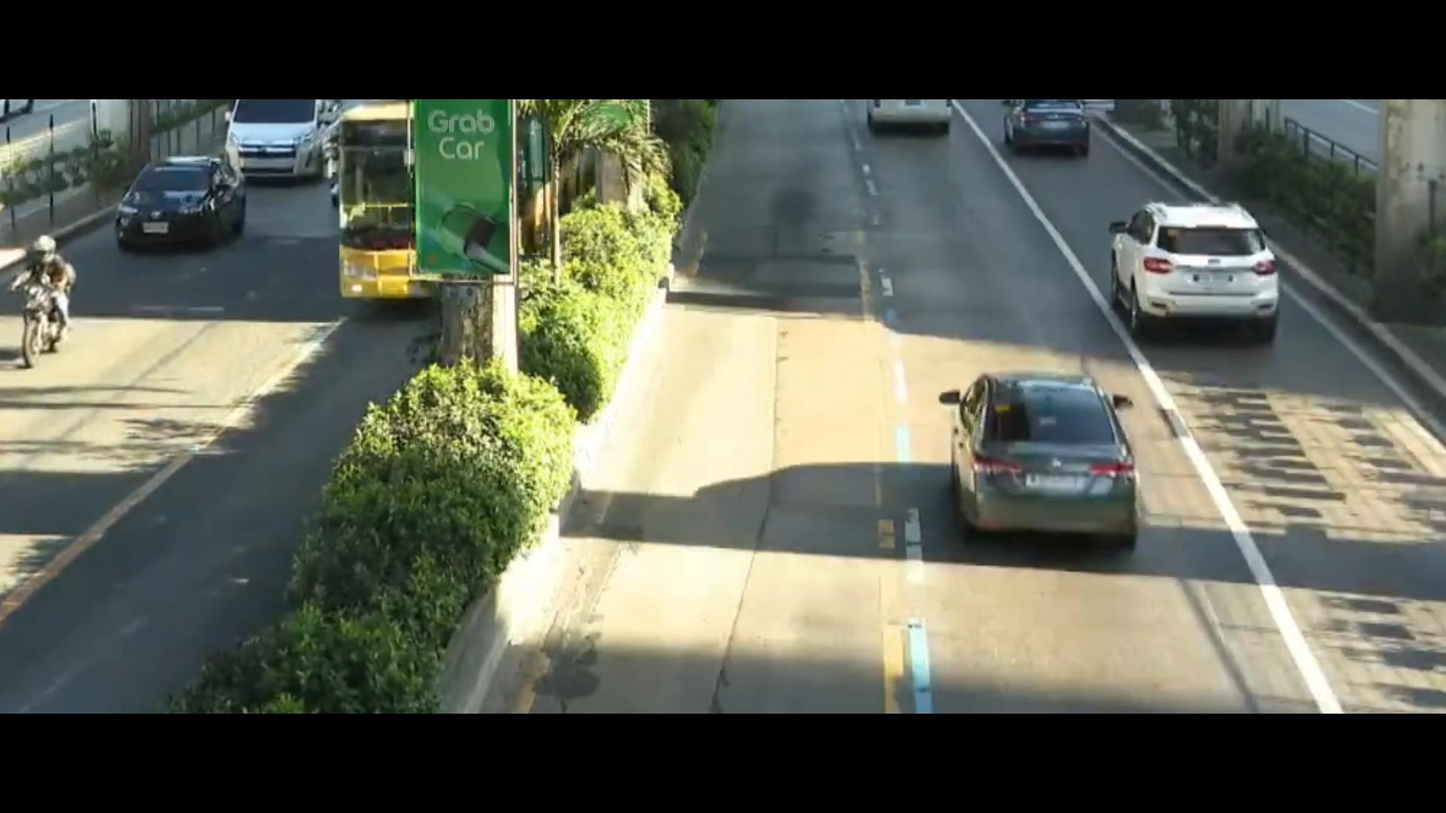Bus: (322, 110, 423, 307)
Motorcycle: (0, 228, 93, 384)
SUV: (1108, 179, 1307, 328)
Sedan: (902, 330, 1203, 569), (94, 143, 241, 273)
Van: (212, 101, 346, 188)
